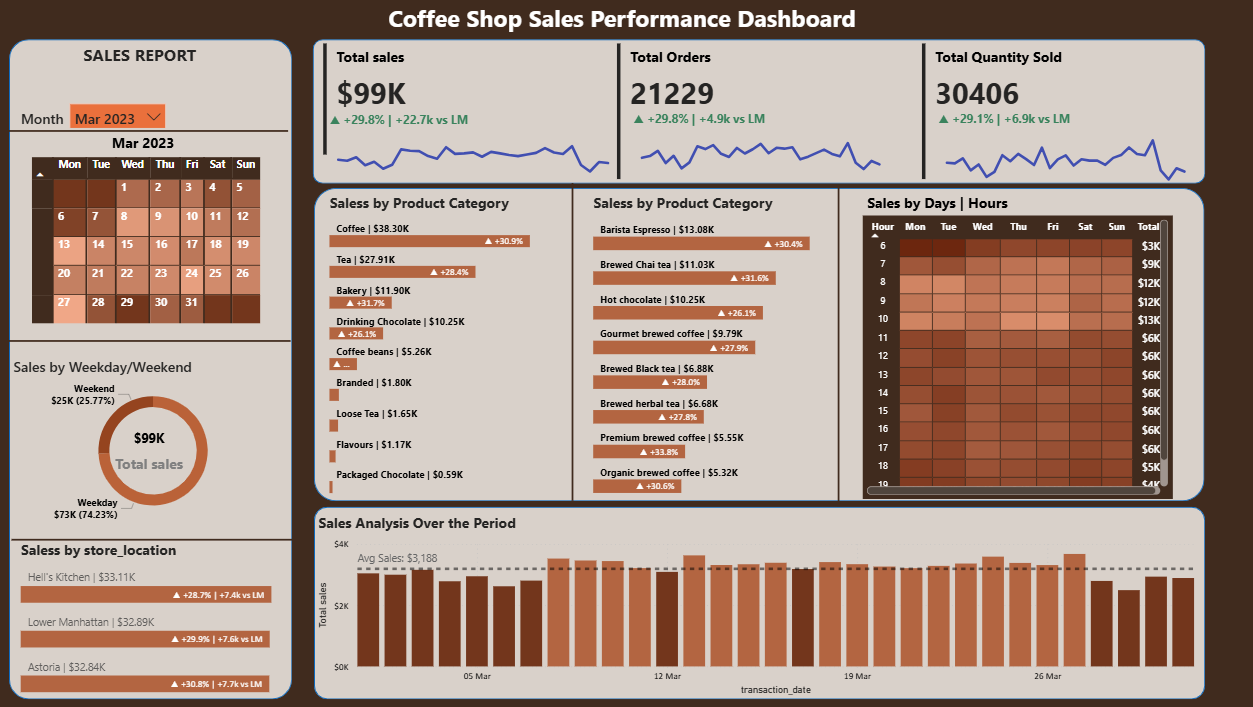

The page's visual inventory and layout, read from the dashboard file:
{"tool":"powerbi","page":{"name":"Page 1","canvas":[1438,817],"ordinal":0},"visuals":[{"type":"textbox","box":[511.4,0,561.4,47.1],"z":0},{"type":"cardVisual","fields":{"Data":["Transactions (2).Total sales"]},"box":[365,47.1,291.6,137.5],"z":0,"group":"g1"},{"type":"shape","box":[11.1,46.9,323.5,754.3],"z":1000},{"type":"lineChart","fields":{"Category":["Calender Table.Date.Variation.Date Hierarchy.Year","Calender Table.Date.Variation.Date Hierarchy.Quarter","Calender Table.Date.Variation.Date Hierarchy.Month","Calender Table.Date.Variation.Date Hierarchy.Day"],"Y":["Transactions (2).Total Orders"]},"box":[720.1,128.4,301.4,86.5],"z":1000,"group":"g2"},{"type":"lineChart","fields":{"Category":["Calender Table.Date.Variation.Date Hierarchy.Year","Calender Table.Date.Variation.Date Hierarchy.Quarter","Calender Table.Date.Variation.Date Hierarchy.Month","Calender Table.Date.Variation.Date Hierarchy.Day"],"Y":["Transactions (2).Total Quantity Sold"]},"box":[1068.9,128.4,301.4,86.5],"z":1000,"group":"g3"},{"type":"lineChart","fields":{"Category":["Calender Table.Date.Variation.Date Hierarchy.Year","Calender Table.Date.Variation.Date Hierarchy.Quarter","Calender Table.Date.Variation.Date Hierarchy.Month","Calender Table.Date.Variation.Date Hierarchy.Day"],"Y":["Transactions (2).Total sales"]},"box":[372.6,129.7,338.3,86.5],"z":1000,"group":"g1"},{"type":"shape","box":[358.5,47.3,1020,165],"z":2000},{"type":"slicer","fields":{"Values":["Calender Table.Month Year"]},"box":[75.7,115.7,120,32.9],"z":3000},{"type":"cardVisual","fields":{"Data":["Transactions (2).Total Orders"]},"box":[701.7,47.1,300.1,165.3],"z":3003,"group":"g2"},{"type":"cardVisual","fields":{"Data":["Transactions (2).Total Quantity Sold"]},"box":[1050.5,47.1,300.1,165.3],"z":3003,"group":"g3"},{"type":"group","id":"g1","title":"Group 1","box":[365,47.1,345.9,169.1],"z":4000},{"type":"group","id":"g2","title":"Group 2","box":[701.7,47.1,319.9,167.8],"z":5000},{"type":"group","id":"g3","title":"Group 2","box":[1050.5,47.1,319.2,167.9],"z":6000},{"type":"pivotTable","fields":{"Columns":["Calender Table.Day Name"],"Values":["Min(Calender Table.Day Number)"],"Rows":["Calender Table.Week Number"]},"box":[33.3,176.5,297.5,201.2],"z":7000},{"type":"card","fields":{"Values":["Min(Calender Table.Month Year)"]},"box":[114.8,151.9,101.2,32.1],"z":8000},{"type":"shape","box":[9.9,377.8,323.5,29.6],"z":9000},{"type":"donutChart","title":"Sales by Weekday/Weekend","fields":{"Category":["Calender Table.Weekday/Weekend"],"Y":["Transactions (2).Total sales"]},"box":[11.1,409.9,329.6,193.8],"z":10000},{"type":"card","fields":{"Values":["Transactions (2).Total sales"]},"box":[123.5,487.7,97.5,59.3],"z":11000},{"type":"clusteredBarChart","title":"Saless by store_location","fields":{"Y":["Transactions (2).Place Holder","Transactions (2).Total sales"],"Category":["Transactions (2).store_location"]},"box":[19.8,618.5,323.5,182.7],"z":12000},{"type":"shape","box":[13.6,603.7,324.7,29.6],"z":13000},{"type":"shape","box":[360,581.7,1018.3,220],"z":14000},{"type":"columnChart","title":"Sales Analysis Over the Period","fields":{"Category":["Transactions (2).transaction_date"],"Y":["Transactions (2).Total sales"]},"box":[360,588.3,1015,213.3],"z":15000},{"type":"shape","box":[6.2,137,324.7,29.6],"z":16000},{"type":"shape","box":[360.5,216.9,1017.6,357.9],"z":17000},{"type":"clusteredBarChart","title":"Saless by Product Category ","fields":{"Y":["Transactions (2).Place Holder","Transactions (2).Total sales"],"Category":["Transactions (2).product_category"]},"box":[372.3,223.4,265.2,348.8],"z":18000},{"type":"shape","box":[637.5,211.6,36.6,363.2],"z":19000},{"type":"clusteredBarChart","title":"Saless by Product Category ","fields":{"Y":["Transactions (2).Place Holder","Transactions (2).Total sales"],"Category":["Transactions (2).product_type"]},"box":[674.1,223.4,286.1,348.8],"z":20000},{"type":"shape","box":[931.4,212.9,56.2,368.4],"z":21000},{"type":"pivotTable","title":"Sales by Days | Hours","fields":{"Rows":["Transactions (2).Hour"],"Columns":["Calender Table.Day Name"],"Values":["Transactions (2).Total sales"]},"box":[987.6,248.2,354,324],"z":22000},{"type":"textbox","box":[987.6,216.9,299.1,31.4],"z":23000},{"type":"textbox","box":[20,121.4,82.9,31.4],"z":24000},{"type":"textbox","box":[91.4,47.1,180,51.4],"z":25000}]}

Visuals, with their boxes in screenshot pixels (x1, y1, x2, y2), scaled from the page's 1438x817 canvas onto the 1253x707 screenshot:
textbox: [left=446, top=0, right=935, bottom=41]
cardVisual - Transactions (2).Total sales: [left=318, top=41, right=572, bottom=160]
shape: [left=10, top=41, right=292, bottom=693]
lineChart - Calender Table.Date.Variation.Date Hierarchy.Year x Calender Table.Date.Variation.Date Hierarchy.Quarter: [left=627, top=111, right=890, bottom=186]
lineChart - Calender Table.Date.Variation.Date Hierarchy.Year x Calender Table.Date.Variation.Date Hierarchy.Quarter: [left=931, top=111, right=1194, bottom=186]
lineChart - Calender Table.Date.Variation.Date Hierarchy.Year x Calender Table.Date.Variation.Date Hierarchy.Quarter: [left=325, top=112, right=619, bottom=187]
shape: [left=312, top=41, right=1201, bottom=184]
slicer - Calender Table.Month Year: [left=66, top=100, right=171, bottom=129]
cardVisual - Transactions (2).Total Orders: [left=611, top=41, right=873, bottom=184]
cardVisual - Transactions (2).Total Quantity Sold: [left=915, top=41, right=1177, bottom=184]
"Group 1" group: [left=318, top=41, right=619, bottom=187]
"Group 2" group: [left=611, top=41, right=890, bottom=186]
"Group 2" group: [left=915, top=41, right=1193, bottom=186]
pivotTable - Calender Table.Day Name x Min(Calender Table.Day Number): [left=29, top=153, right=288, bottom=327]
card - Min(Calender Table.Month Year): [left=100, top=131, right=188, bottom=159]
shape: [left=9, top=327, right=291, bottom=353]
"Sales by Weekday/Weekend" donutChart: [left=10, top=355, right=297, bottom=522]
card - Transactions (2).Total sales: [left=108, top=422, right=193, bottom=473]
"Saless by store_location" clusteredBarChart: [left=17, top=535, right=299, bottom=693]
shape: [left=12, top=522, right=295, bottom=548]
shape: [left=314, top=503, right=1201, bottom=694]
"Sales Analysis Over the Period" columnChart: [left=314, top=509, right=1198, bottom=694]
shape: [left=5, top=119, right=288, bottom=144]
shape: [left=314, top=188, right=1201, bottom=497]
"Saless by Product Category " clusteredBarChart: [left=324, top=193, right=555, bottom=495]
shape: [left=555, top=183, right=587, bottom=497]
"Saless by Product Category " clusteredBarChart: [left=587, top=193, right=837, bottom=495]
shape: [left=812, top=184, right=861, bottom=503]
"Sales by Days | Hours" pivotTable: [left=861, top=215, right=1169, bottom=495]
textbox: [left=861, top=188, right=1121, bottom=215]
textbox: [left=17, top=105, right=90, bottom=132]
textbox: [left=80, top=41, right=236, bottom=85]
